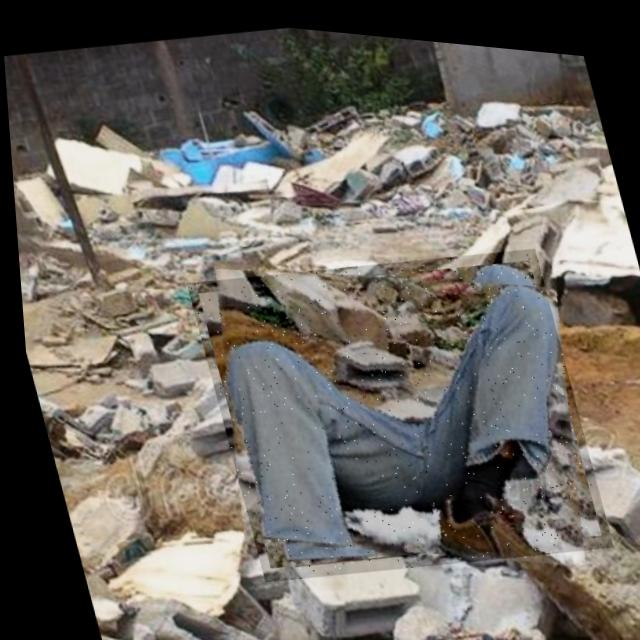Person in Rubble: (179, 212, 611, 606)
